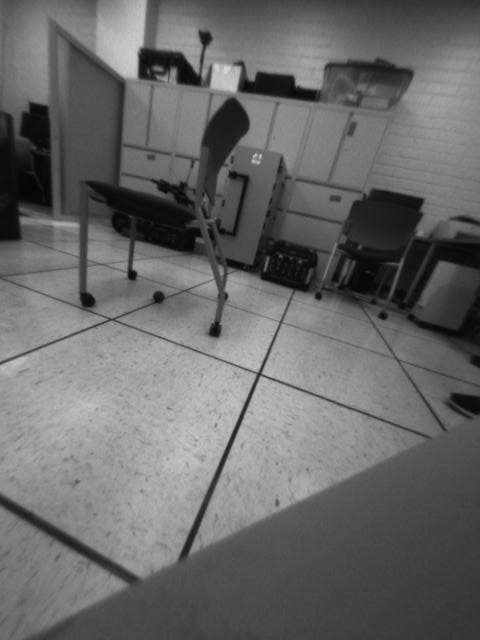dogtoy: (148, 283, 171, 309)
